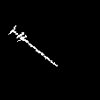treble_crochet: (10, 26, 56, 65)
